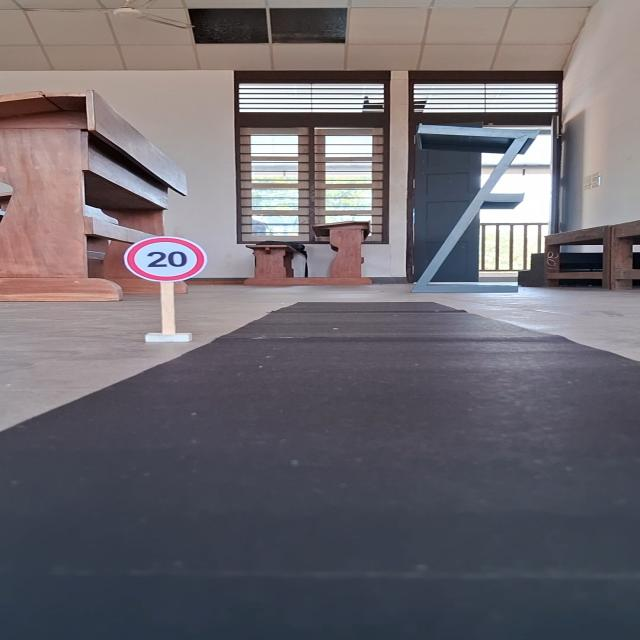Speed20: (118, 233, 210, 284)
